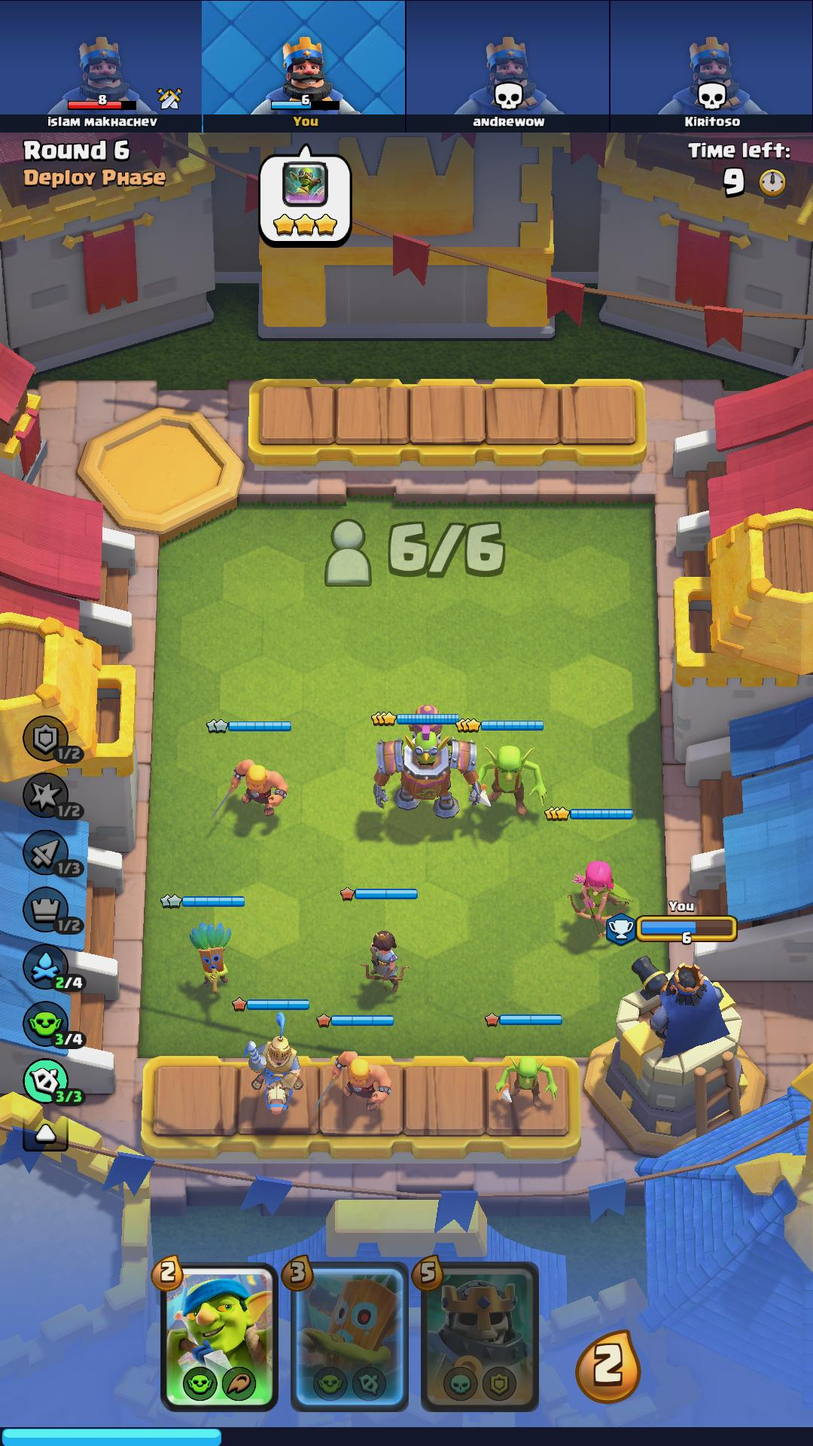archer: (557, 851, 627, 928)
barbarian: (221, 749, 290, 820), (327, 1041, 396, 1111)
dart: (180, 914, 242, 997)
goblin: (487, 733, 549, 823), (492, 1048, 565, 1111)
hand-dart: (292, 1263, 403, 1403)
hand-king: (418, 1264, 534, 1404)
hand-spear: (163, 1270, 272, 1403)
prince: (244, 1030, 309, 1119)
princess: (357, 923, 413, 999)
